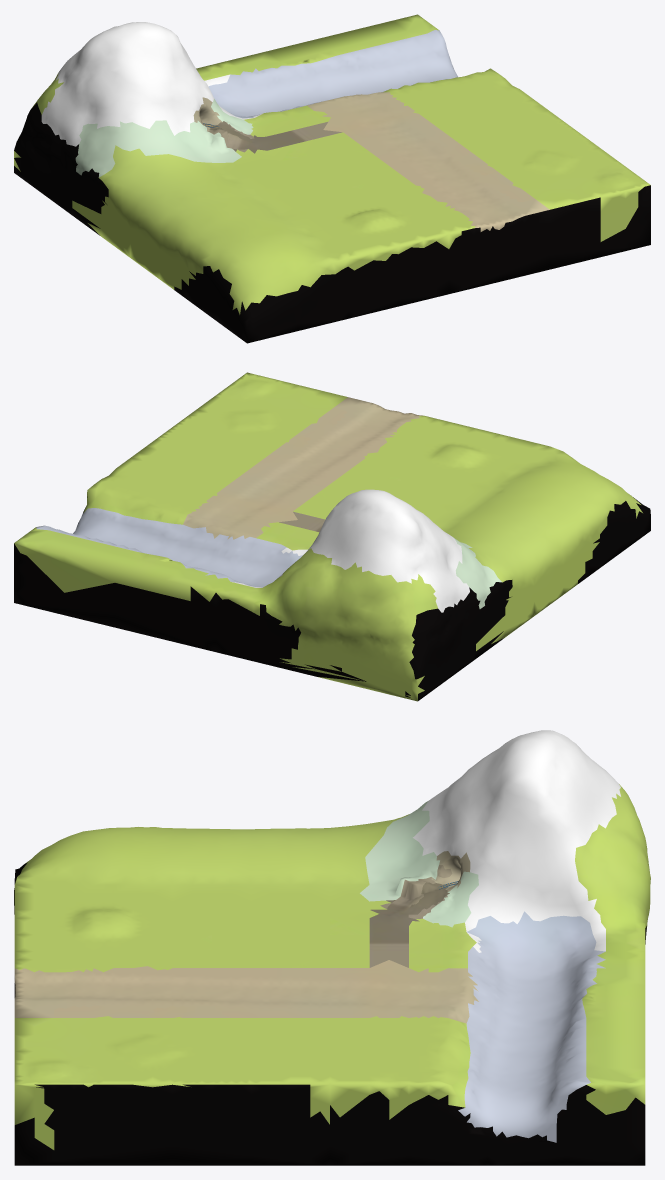
Rendered from MountMap.fbx.
3 views of the same model, one above another, from view 1: azimuth 30°, elevation 25°; view 2: azimuth 150°, elevation 25°; view 3: azimuth 270°, elevation 25° (orthographic). The views are drawn at different scales.
Parts seen in each view (by area): view 1: Plane; view 2: Plane; view 3: Plane.
Boxes of the visible parts, x1,y1,x2,y2 form: Plane: (14, 14, 650, 343); Plane: (14, 372, 650, 701); Plane: (14, 730, 650, 1165).
Bounding box in the file's own units: 50351 × 18686 × 50504.
